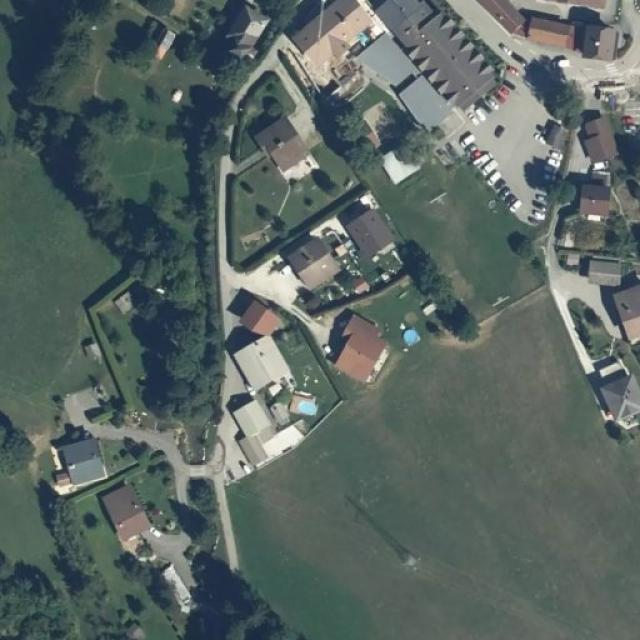immeuble: (296, 0, 490, 89), (228, 0, 266, 19)
maison: (229, 295, 302, 390), (516, 10, 628, 60), (234, 390, 303, 466), (251, 110, 317, 184), (334, 304, 384, 378), (344, 197, 394, 256), (287, 236, 341, 287), (103, 484, 148, 544), (585, 106, 619, 177), (604, 283, 640, 338), (61, 434, 100, 478), (576, 173, 612, 220), (548, 125, 568, 147)
piscine: (297, 392, 324, 418), (403, 322, 429, 348)
